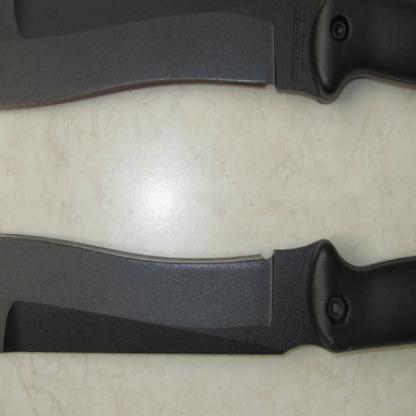knife: (0, 207, 415, 363), (0, 0, 415, 139)
